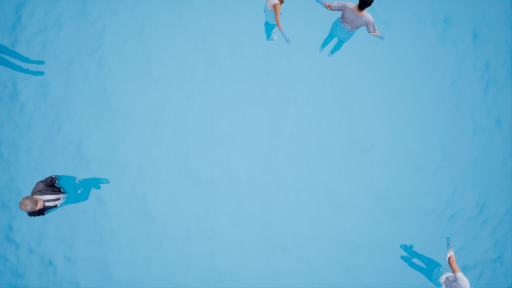person: (18, 173, 109, 220), (318, 2, 377, 59), (263, 1, 299, 48)
